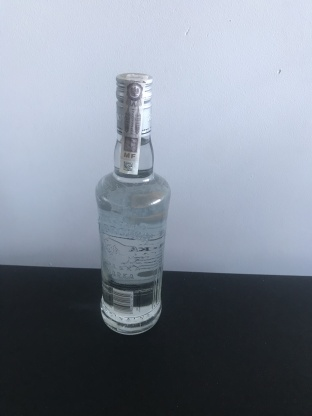nakretka: (113, 69, 156, 138)
